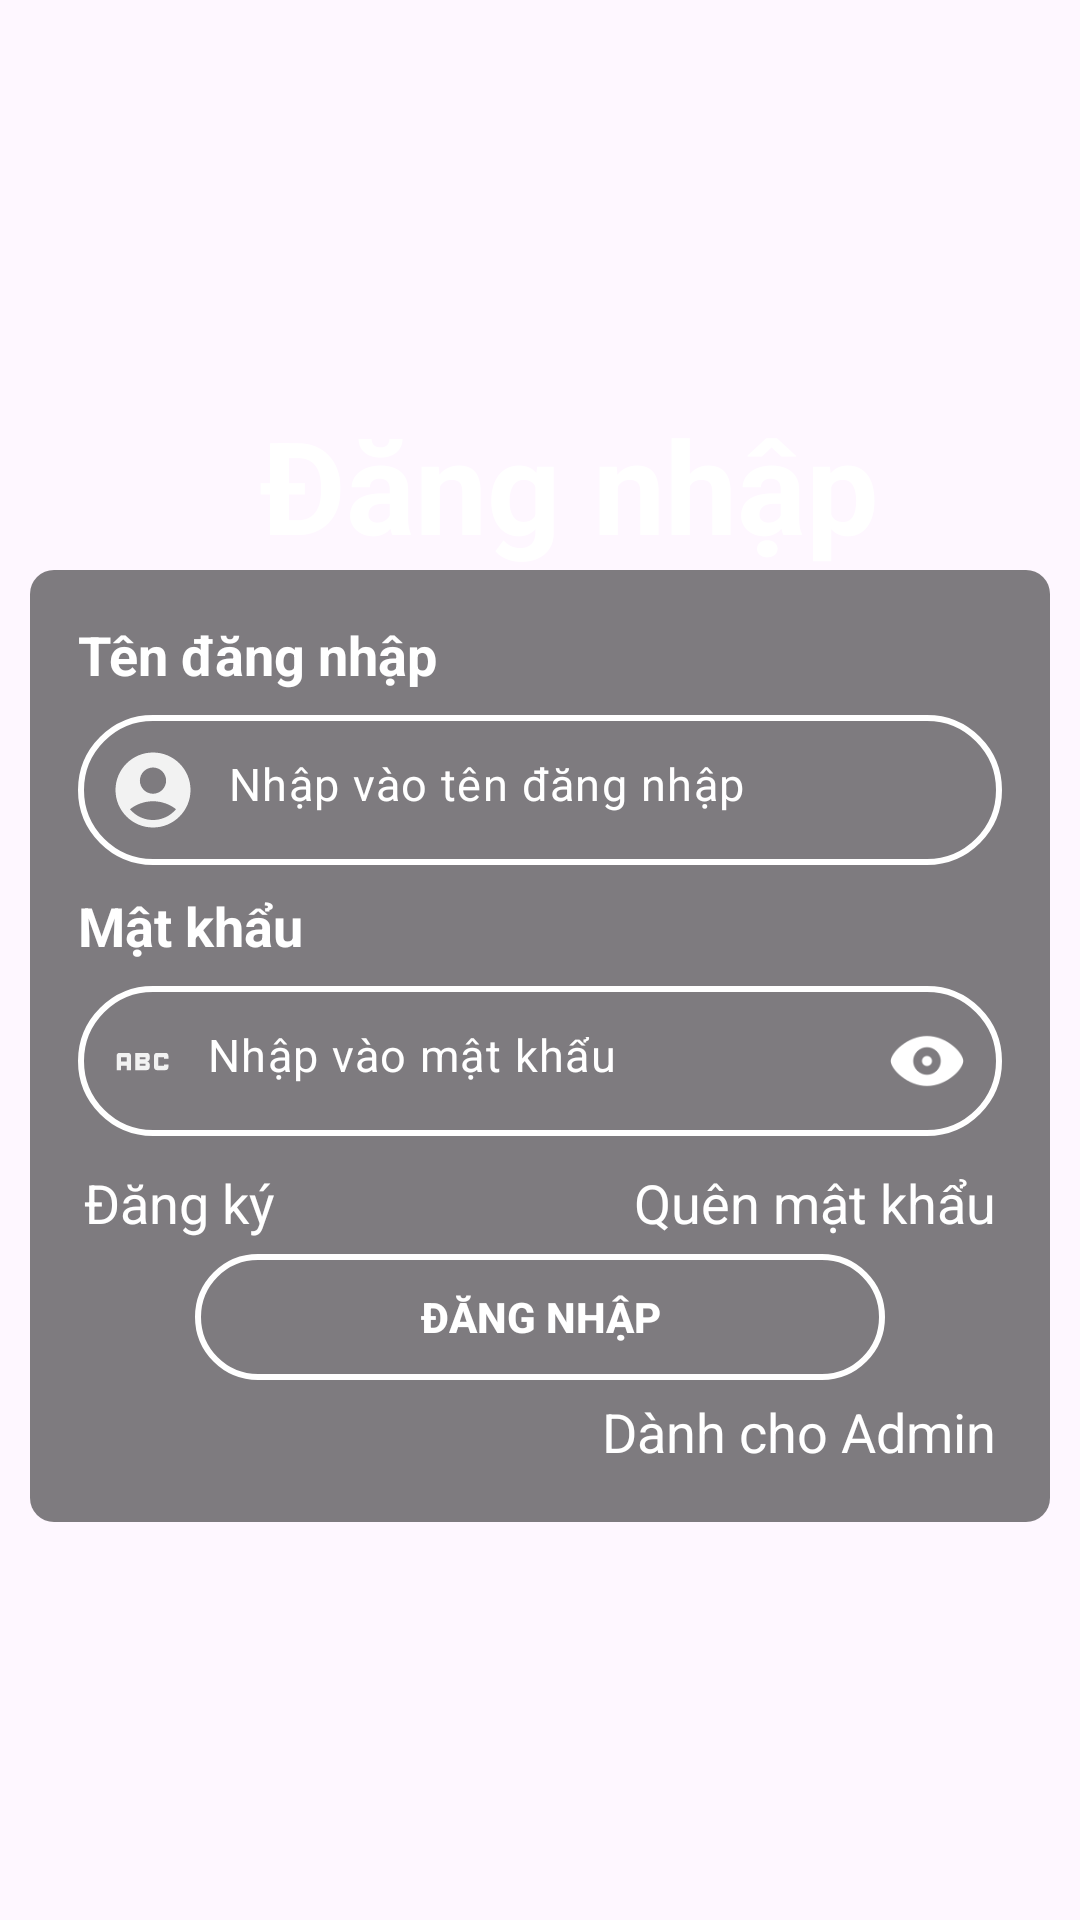

Icon bounding boxes for this 1080×1920 phone screenshot, format (x1, y1, x2, y2):
show password: (890, 1036, 964, 1086)
use name: (115, 752, 191, 828)
